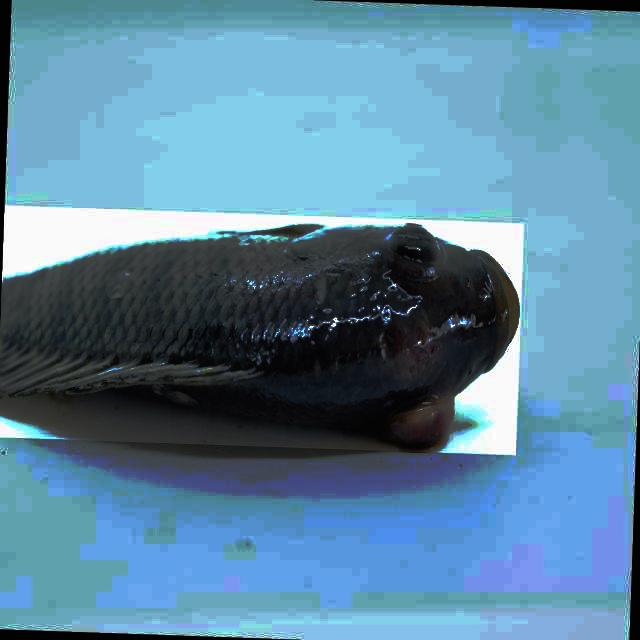Streptococcus: (0, 222, 519, 450)
